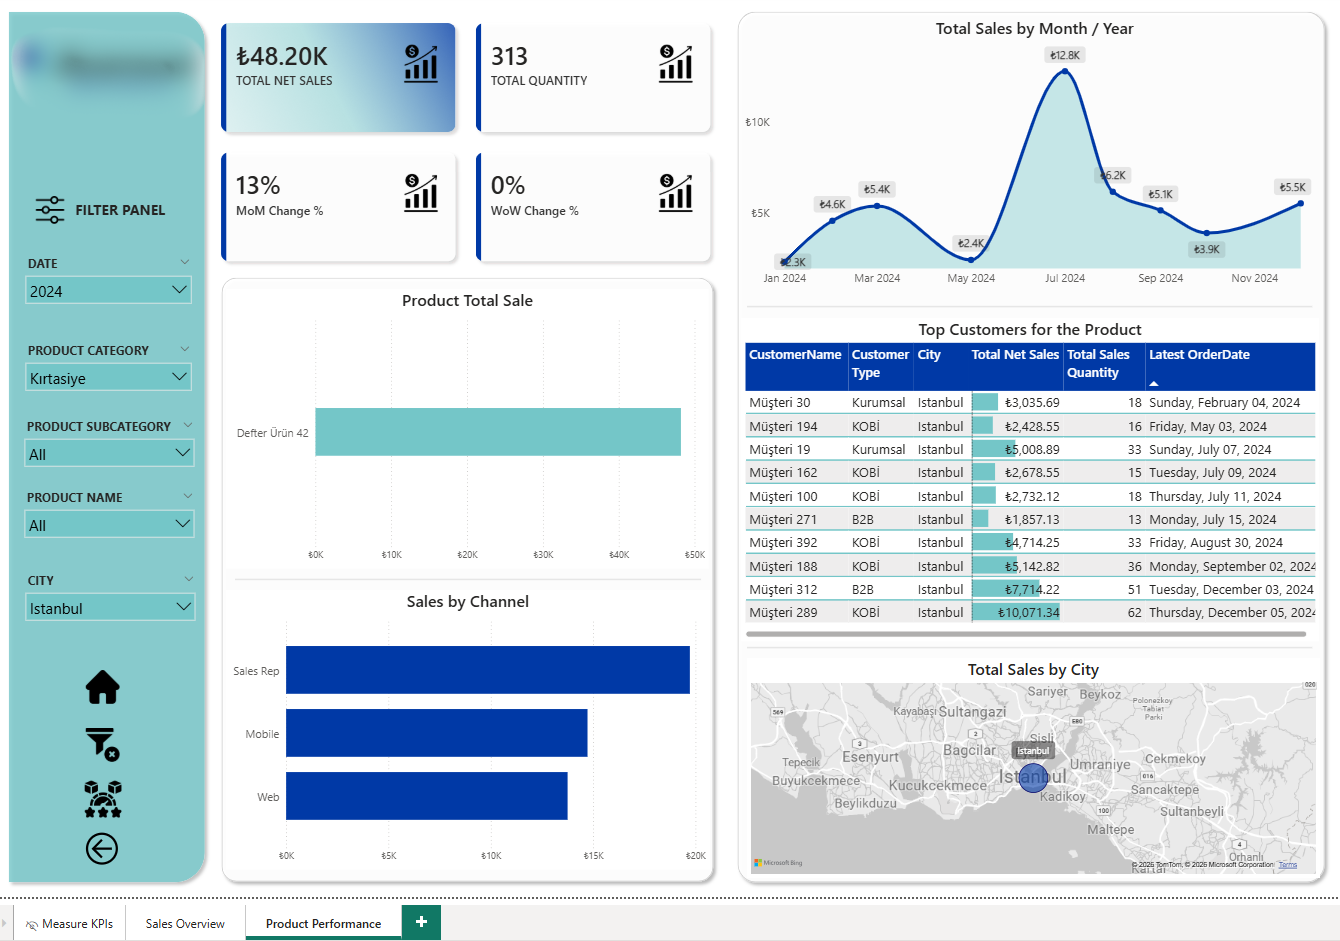

The page's visual inventory and layout, read from the dashboard file:
{"tool":"powerbi","page":{"name":"Product Performance","canvas":[1800,1200],"ordinal":2},"visuals":[{"type":"shape","box":[9.9,12.7,278.9,1176.1],"z":0},{"type":"image","box":[49.3,266.8,48.1,37.3],"z":2,"group":"g1"},{"type":"textbox","box":[97.4,266.8,139.1,48.8],"z":8,"group":"g1"},{"type":"image","box":[111.3,898.6,63.4,45.1],"z":1000},{"type":"image","box":[25.4,52.1,246.5,88.7],"z":2000},{"type":"image","box":[111.3,974.6,63.4,45.1],"z":3000},{"type":"group","id":"g1","title":"Group 2","box":[49.3,266.8,187.2,48.8],"z":4000},{"type":"shape","box":[978.9,12.7,798.6,1176.1],"z":5000},{"type":"shape","box":[293,367.6,671.8,821.1],"z":6000},{"type":"slicer","fields":{"Values":["Date_Table.Date.Variation.Date Hierarchy.Year","Date_Table.Date.Variation.Date Hierarchy.Month","Date_Table.Date.Variation.Date Hierarchy.Day"]},"box":[31,340.8,240.8,98.6],"z":7000},{"type":"slicer","fields":{"Values":["Products.Category"]},"box":[31,456.3,240.8,97.2],"z":8000},{"type":"slicer","fields":{"Values":["Products.SubCategory"]},"box":[29.6,557.7,246.5,97.2],"z":9000},{"type":"shape","box":[319,763.9,620.5,27.8],"z":10000},{"type":"cardVisual","fields":{"Data":["_Measures.Total Net Sales","Sum(Sales.Quantity)","_Measures.MoM Change %","_Measures.WoW Change %"]},"box":[288.7,25.4,676.1,342.3],"z":11000},{"type":"slicer","fields":{"Values":["Products.ProductName"]},"box":[29.6,652.1,246.5,97.2],"z":12000},{"type":"slicer","fields":{"Values":["Customers.City"]},"box":[31,762,246.5,97.2],"z":13000},{"type":"shape","box":[1000,400,752.1,28.2],"z":14000},{"type":"actionButton","box":[91.5,1108.5,100,54.9],"z":15000},{"type":"lineChart","title":"Total Sales by Month / Year","fields":{"Y":["_Measures.Total Net Sales"],"Category":["Date_Table.Date.Variation.Date Hierarchy.Year","Date_Table.Date.Variation.Date Hierarchy.Month"]},"box":[993,29.6,781.7,367.6],"z":16000},{"type":"barChart","title":"Product Total Sale","fields":{"Category":["Products.ProductName"],"Y":["_Measures.Total Net Sales"]},"box":[307.3,390.7,642.4,371.7],"z":17000},{"type":"barChart","title":"Sales by Channel","fields":{"Y":["_Measures.Total Net Sales"],"Category":["Sales.OrderChannel"]},"box":[307,791.5,643.7,371.8],"z":18000},{"type":"tableEx","title":"Top Customers for the Product","fields":{"Values":["Customers.CustomerName","Customers.CustomerType","Customers.City","_Measures.Total Net Sales","_Measures.Total Sales Quantity","Sales.OrderDate"]},"box":[992.6,429.9,769.2,429.9],"z":19000},{"type":"shape","box":[1000,853.5,752.1,28.2],"z":20000},{"type":"map","title":"Total Sales by City","fields":{"Category":["Customers.City"],"Size":["_Measures.Total Net Sales"]},"box":[1000,881.7,762,291.5],"z":21000},{"type":"image","box":[111.3,1042.3,63.4,56.3],"z":22000}]}

Visuals, with their boxes on the page's 1800x1200 design canvas (x1, y1, x2, y2). These are canvas units, not pixel positions in the 1340x941 screenshot, which may show the page scaled, cropped or inside an application window:
shape: [left=10, top=13, right=289, bottom=1189]
image: [left=49, top=267, right=97, bottom=304]
textbox: [left=97, top=267, right=236, bottom=316]
image: [left=111, top=899, right=175, bottom=944]
image: [left=25, top=52, right=272, bottom=141]
image: [left=111, top=975, right=175, bottom=1020]
"Group 2" group: [left=49, top=267, right=236, bottom=316]
shape: [left=979, top=13, right=1778, bottom=1189]
shape: [left=293, top=368, right=965, bottom=1189]
slicer - Date_Table.Date.Variation.Date Hierarchy.Year x Date_Table.Date.Variation.Date Hierarchy.Month: [left=31, top=341, right=272, bottom=439]
slicer - Products.Category: [left=31, top=456, right=272, bottom=554]
slicer - Products.SubCategory: [left=30, top=558, right=276, bottom=655]
shape: [left=319, top=764, right=940, bottom=792]
cardVisual - _Measures.Total Net Sales x Sum(Sales.Quantity): [left=289, top=25, right=965, bottom=368]
slicer - Products.ProductName: [left=30, top=652, right=276, bottom=749]
slicer - Customers.City: [left=31, top=762, right=278, bottom=859]
shape: [left=1000, top=400, right=1752, bottom=428]
actionButton: [left=92, top=1108, right=192, bottom=1163]
"Total Sales by Month / Year" lineChart: [left=993, top=30, right=1775, bottom=397]
"Product Total Sale" barChart: [left=307, top=391, right=950, bottom=762]
"Sales by Channel" barChart: [left=307, top=792, right=951, bottom=1163]
"Top Customers for the Product" tableEx: [left=993, top=430, right=1762, bottom=860]
shape: [left=1000, top=854, right=1752, bottom=882]
"Total Sales by City" map: [left=1000, top=882, right=1762, bottom=1173]
image: [left=111, top=1042, right=175, bottom=1099]
